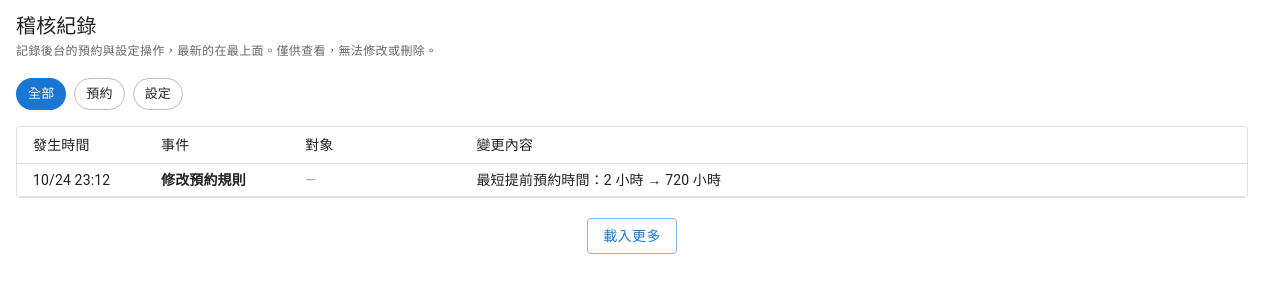
Test: AuditLogView › 載入更多 › 載入更多中：保留既有列、按鈕停用並顯示「載入中…」，不會重複送出
The image size is (1265, 282).
Check: the table is shown, box x1=17 y1=127 x2=1247 y2=197
Click the button "載入更多" at (632, 236), box x1=587 y1=218 x2=677 y2=254
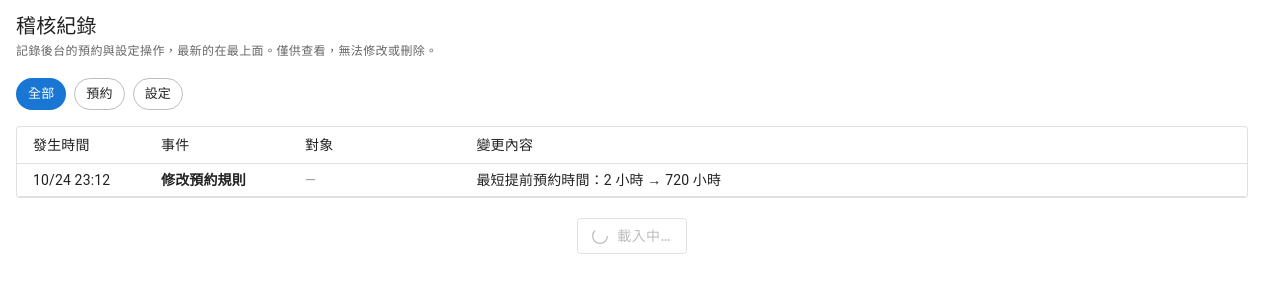
Check: the number of rows is 2, box x1=17 y1=127 x2=1247 y2=163; x1=17 y1=163 x2=1247 y2=196
Check: the button "載入中…" is disabled
Click the button "載入中…" at (632, 236), box x1=577 y1=218 x2=687 y2=254
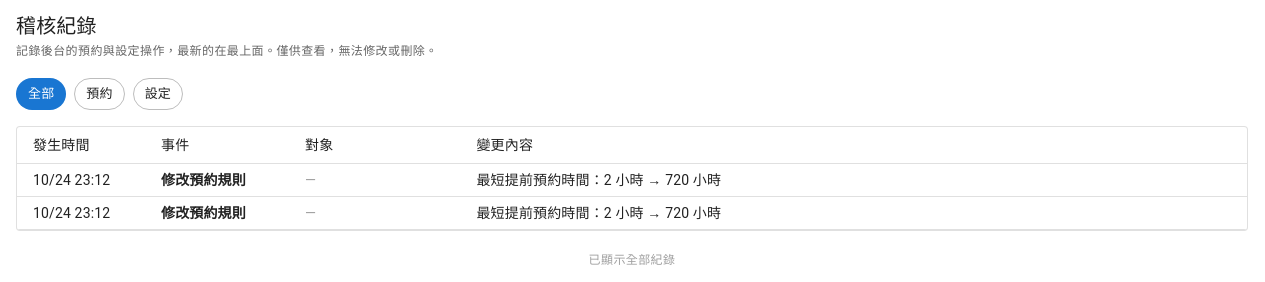
Check: the number of rows is 3, box x1=17 y1=127 x2=1247 y2=163; x1=17 y1=163 x2=1247 y2=196; x1=17 y1=196 x2=1247 y2=229
